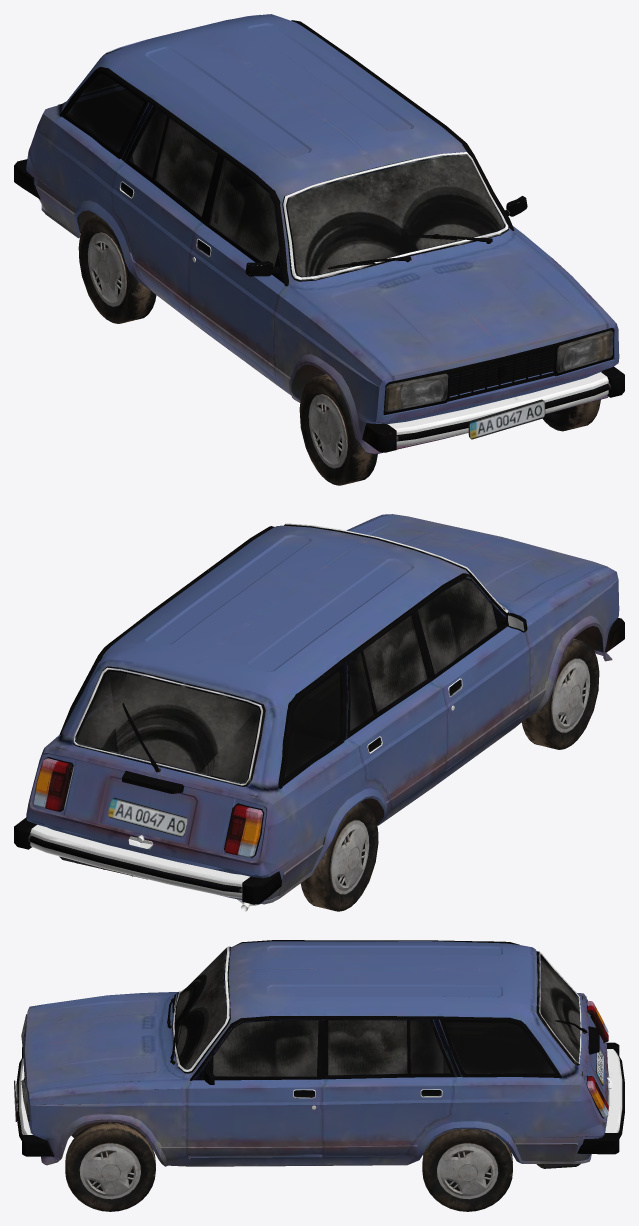
File: cv-vaz2104.glb
3 views of the same model, one above another, from view 1: azimuth 30°, elevation 25°; view 2: azimuth 150°, elevation 25°; view 3: azimuth 270°, elevation 25° (orthographic). The views are drawn at different scales.
Visible parts, largest first — view 1: Wheel 2_Wheel_0, lamp_head_R, lamp_head_L; view 2: Wheel 2_Wheel_0, lamp_tail_R, lamp_tail_L; view 3: Wheel 2_Wheel_0, lamp_tail_L.
Boxes of the visible parts, x1,y1,x2,y2 form: Wheel 2_Wheel_0: (14,14,624,485); lamp_head_R: (384,368,445,410); lamp_head_L: (551,324,614,371); Wheel 2_Wheel_0: (14,514,624,911); lamp_tail_R: (220,797,281,861); lamp_tail_L: (29,748,78,815); Wheel 2_Wheel_0: (14,940,624,1211); lamp_tail_L: (580,1070,608,1122).
Size of the model in its own units: 1.76 by 1.45 by 4.12.
4 materials, 4 textured.
